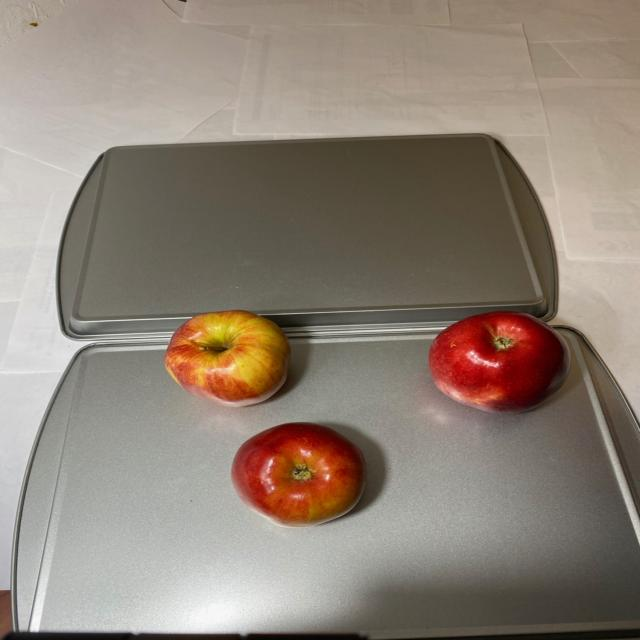apple: (161, 309, 370, 528), (422, 312, 574, 414)
